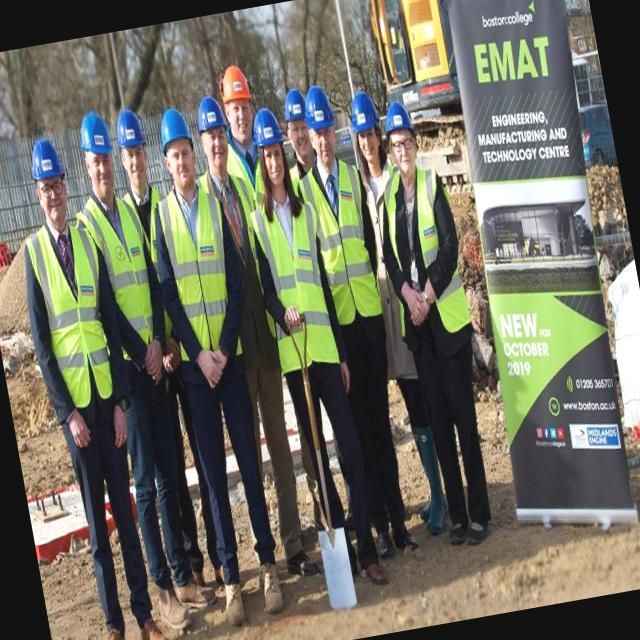helmet: (71, 102, 117, 172), (22, 132, 71, 194), (298, 79, 340, 141), (373, 88, 416, 146), (340, 86, 382, 144), (246, 103, 287, 157), (152, 100, 194, 152), (274, 75, 310, 134), (188, 95, 228, 145), (215, 60, 252, 114), (112, 110, 146, 156)
no-goggles: (81, 148, 118, 176), (388, 130, 418, 162), (34, 176, 68, 200), (165, 144, 194, 170), (225, 98, 253, 120), (258, 142, 286, 164), (308, 122, 336, 144), (120, 146, 148, 167), (286, 117, 310, 139), (205, 130, 229, 146), (356, 126, 378, 143)
vest: (13, 212, 132, 428), (245, 180, 348, 396), (80, 188, 182, 404), (156, 165, 249, 382), (384, 170, 471, 358), (307, 153, 388, 335)
